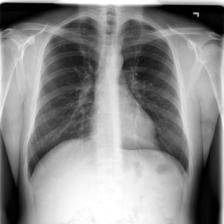normal: (23, 14, 194, 182)
